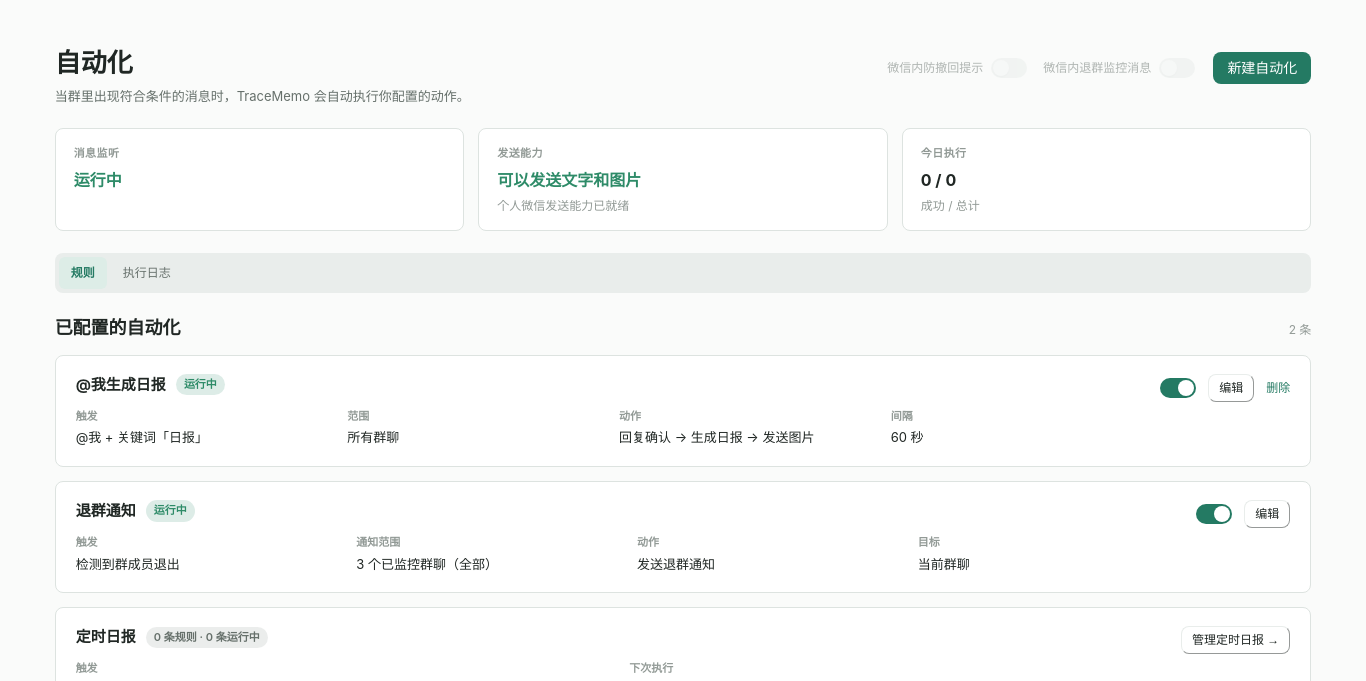
Test: 退群通知 · 通知范围（二次勾选） › 默认是「全部已监控群聊」，预览里如实说明覆盖范围
Click the 2nd button "编辑" at {"x": 1267, "y": 514}, box left=1244, top=500, right=1290, bottom=528
(page scrolled)
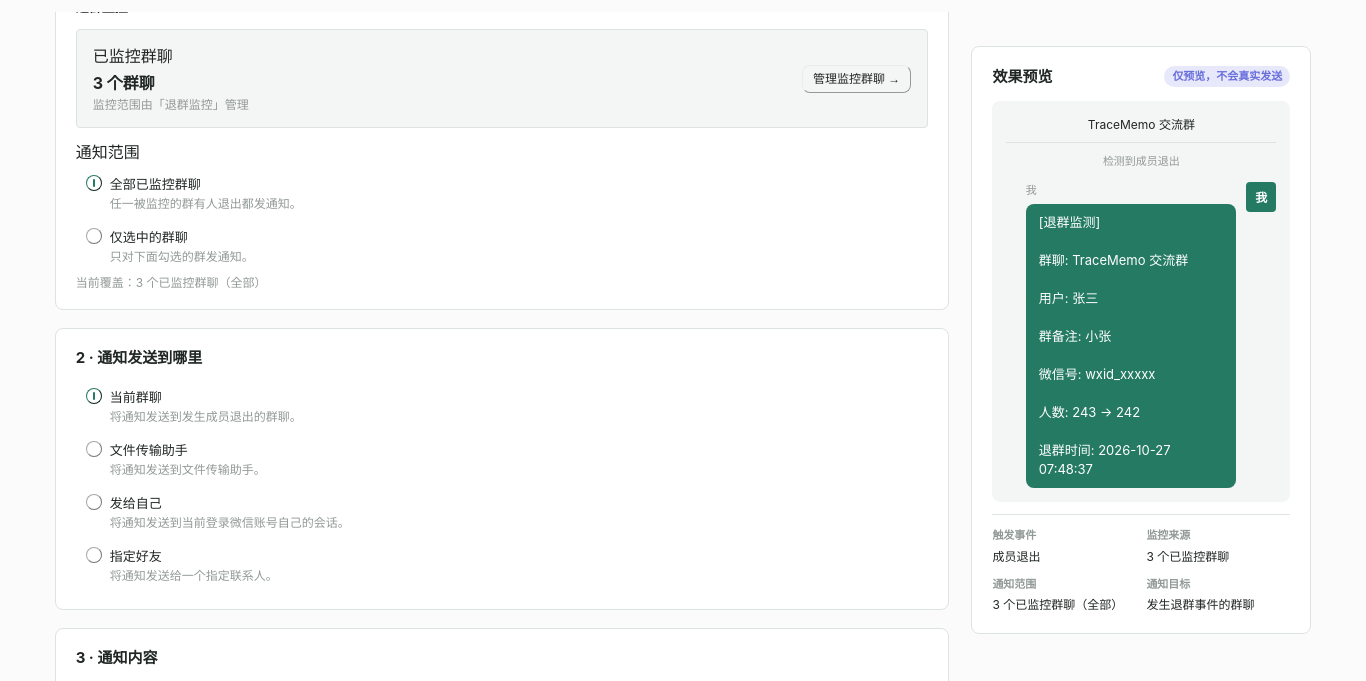
Expected: the text "3 个已监控群聊（全部）" is shown, left=992, top=596, right=1136, bottom=615
Expected: the radio button named "全部已监控群聊" next to "全部已监控群聊" is checked, left=86, top=174, right=102, bottom=190
